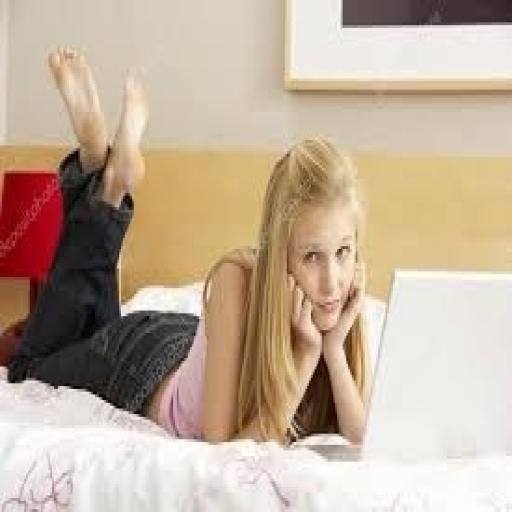using_laptop: (291, 263, 510, 467)
